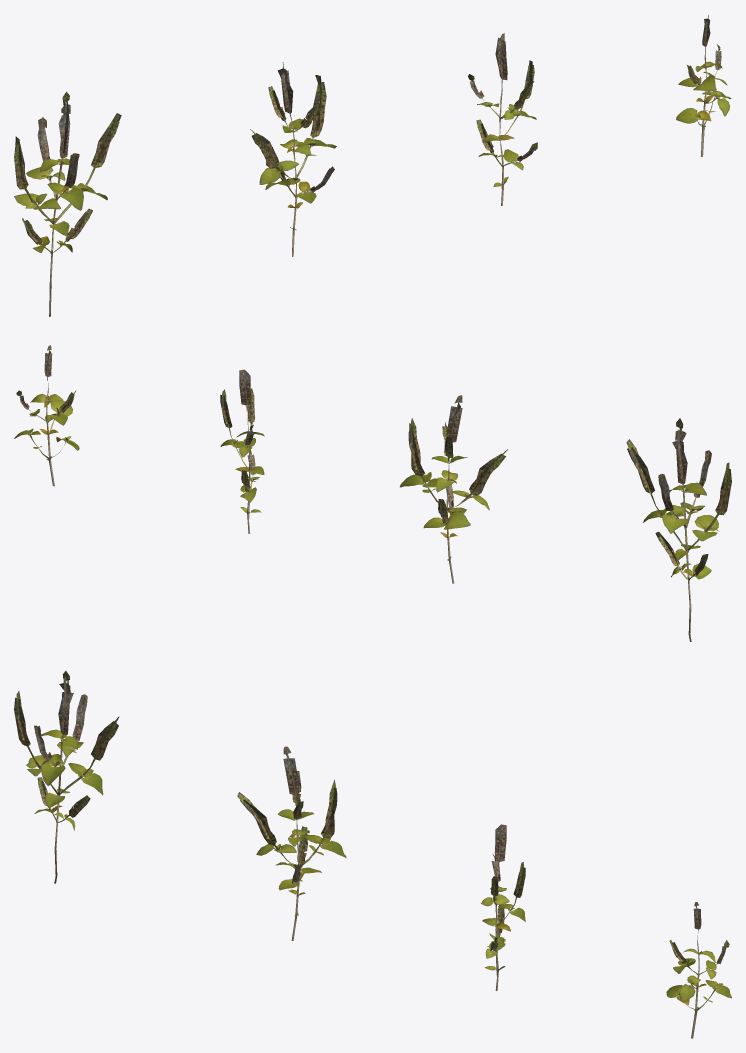
File: shrub_03.glb
3 renders of one model, top to bottom at view 1: azimuth 30°, elevation 25°; view 2: azimuth 150°, elevation 25°; view 3: azimuth 330°, elevation 25°, orthographic. The views are drawn at different scales.
Visible parts, largest first — view 1: shrub_03_a; view 2: shrub_03_a; view 3: shrub_03_a.
Boxes of the visible parts, x1,y1,x2,y2 form: shrub_03_a: [14, 15, 731, 316]; shrub_03_a: [14, 345, 731, 641]; shrub_03_a: [14, 671, 731, 1038].
Size of the model in its own units: 1.37 by 0.4029 by 0.1512.
1 material, 1 textured.
